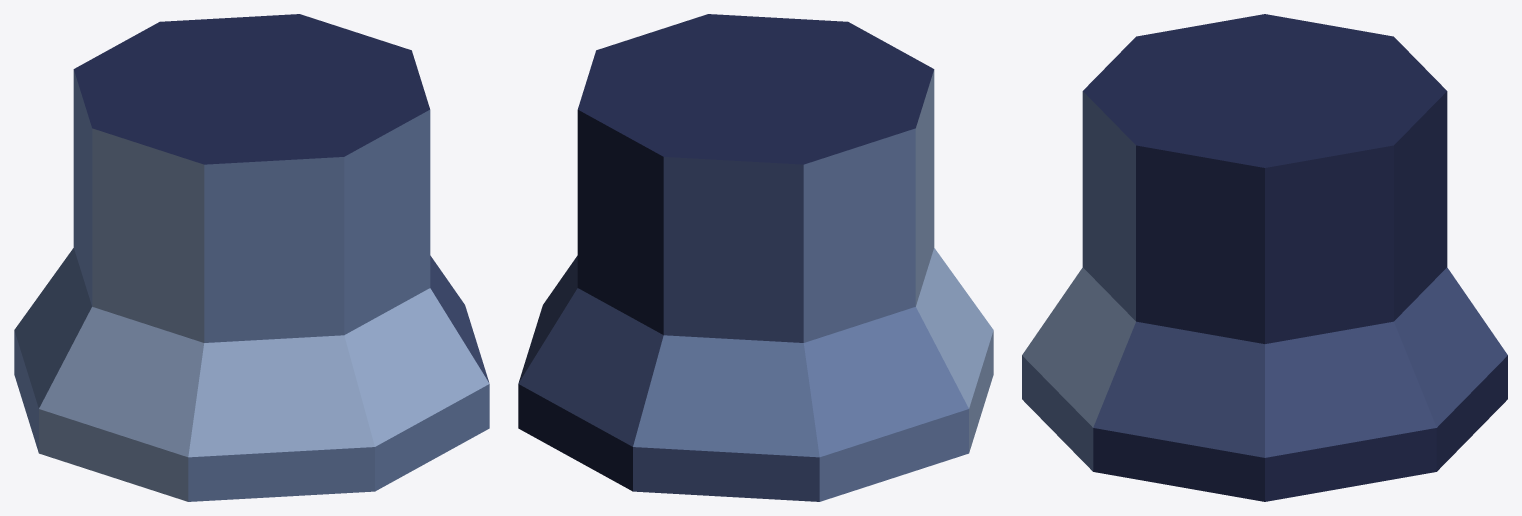
File: thruster_module.obj
The picture shows the model from 3 angles, left to right: view 1: azimuth 30°, elevation 25°; view 2: azimuth 150°, elevation 25°; view 3: azimuth 270°, elevation 25°; orthographic projection.
Parts seen in each view (by area): view 1: ThrusterModule; view 2: ThrusterModule; view 3: ThrusterModule.
Boxes of the visible parts, x1,y1,x2,y2 form: ThrusterModule: (14, 14, 489, 501); ThrusterModule: (518, 14, 993, 501); ThrusterModule: (1022, 14, 1507, 501).
Bounding box in the file's own units: 0.4 × 0.28 × 0.4.
Materials: 1 (1 with a texture image).
